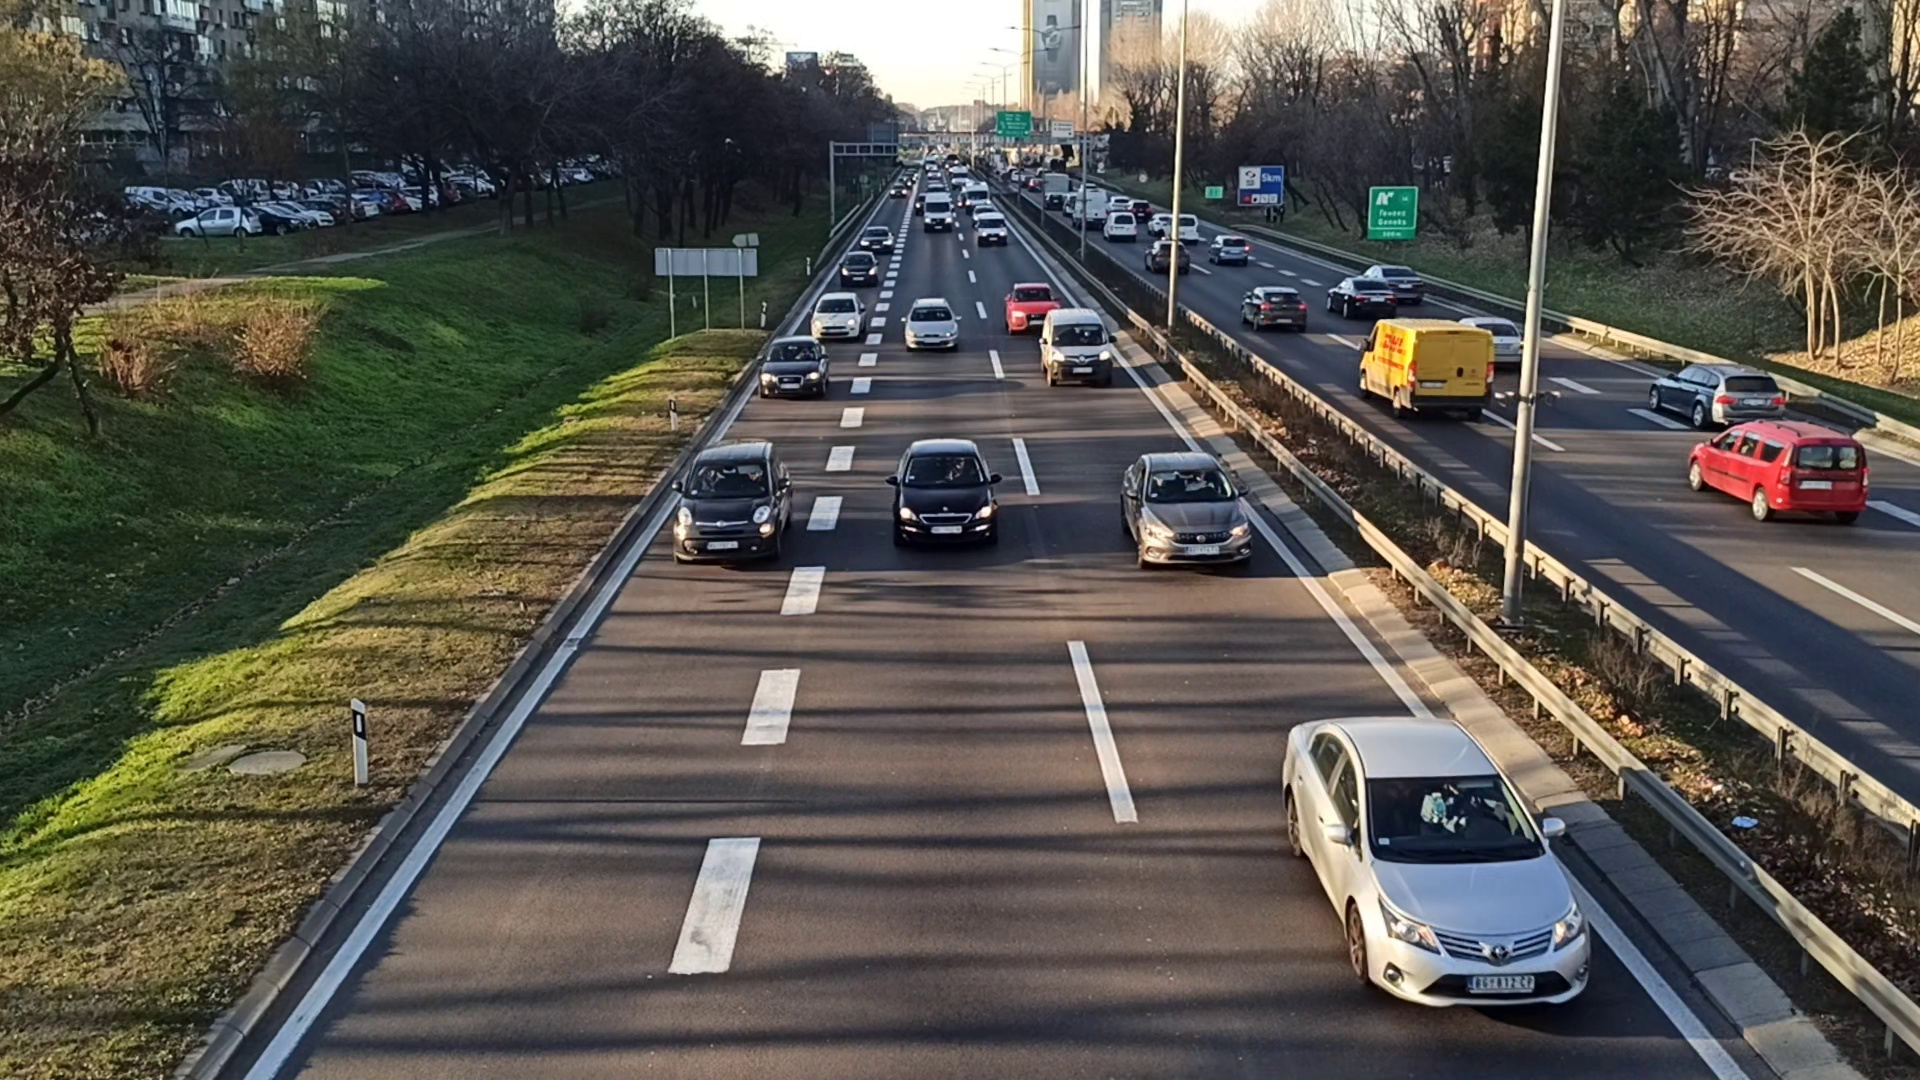car: (1280, 713, 1594, 1014), (1691, 409, 1870, 527), (1120, 448, 1254, 574), (673, 439, 795, 566), (893, 435, 1000, 549), (1647, 361, 1788, 423), (1040, 310, 1114, 389), (757, 335, 829, 398), (810, 287, 866, 344), (903, 295, 960, 349), (1242, 286, 1305, 334), (1001, 282, 1059, 331), (1327, 277, 1393, 315), (1145, 239, 1191, 276), (837, 251, 880, 284), (1209, 233, 1251, 264), (923, 194, 952, 231), (977, 214, 1007, 245), (858, 224, 893, 249)
van: (1356, 324, 1493, 415)
